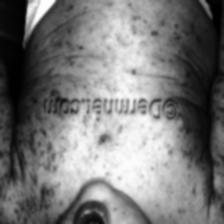Toxin: (28, 132, 60, 174)
